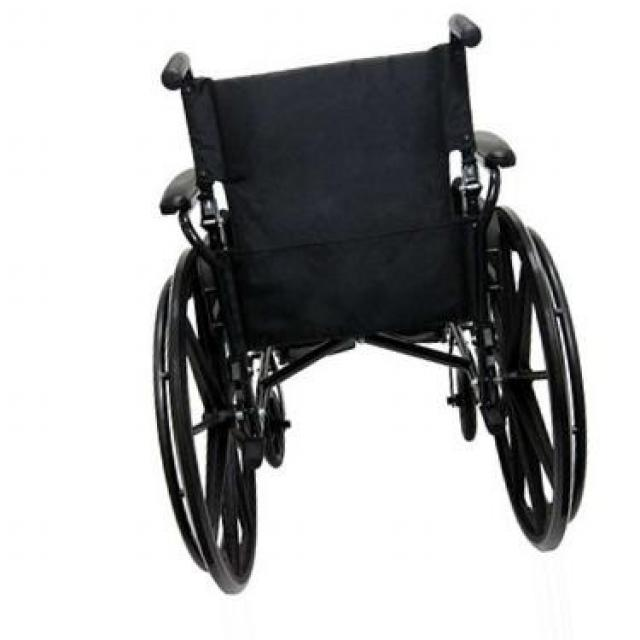wheelchair: (143, 2, 603, 610)
